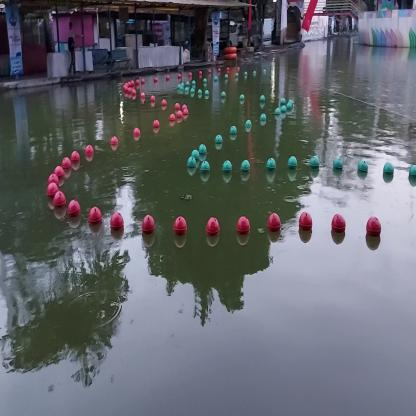green_buoy: (380, 161, 394, 183), (308, 155, 323, 173), (332, 157, 345, 176), (240, 160, 252, 178), (214, 133, 224, 151), (409, 164, 416, 189), (188, 152, 197, 171), (223, 162, 233, 179), (268, 157, 276, 175), (360, 160, 368, 178), (290, 157, 297, 175), (202, 162, 210, 177), (245, 120, 252, 135), (200, 142, 206, 158), (232, 126, 236, 142)
red_buoy: (88, 206, 104, 236), (367, 216, 382, 243), (67, 198, 82, 223), (174, 213, 188, 239), (109, 208, 124, 232), (297, 213, 312, 237), (140, 216, 156, 238), (206, 218, 220, 240), (331, 214, 345, 235), (238, 216, 250, 240), (269, 212, 280, 238), (54, 192, 66, 214), (47, 183, 58, 203), (70, 150, 82, 166), (62, 155, 70, 177), (48, 173, 61, 186), (55, 166, 64, 184), (111, 134, 120, 150), (84, 145, 93, 160), (133, 128, 141, 139)
